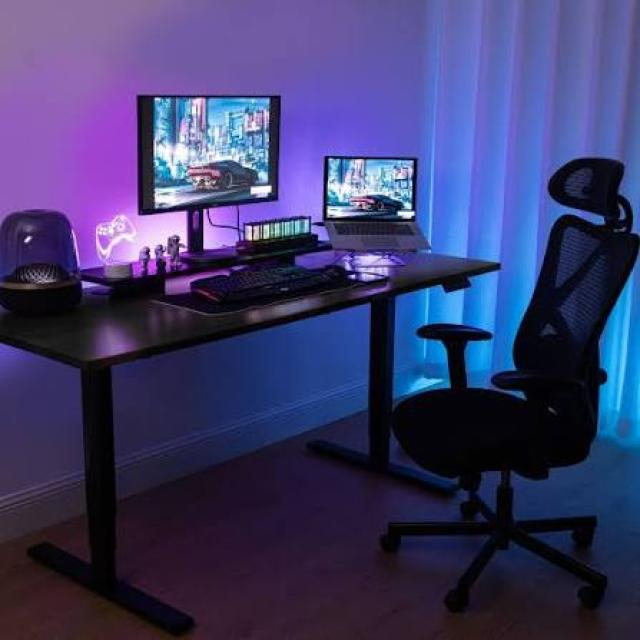Chair: (372, 154, 639, 628)
